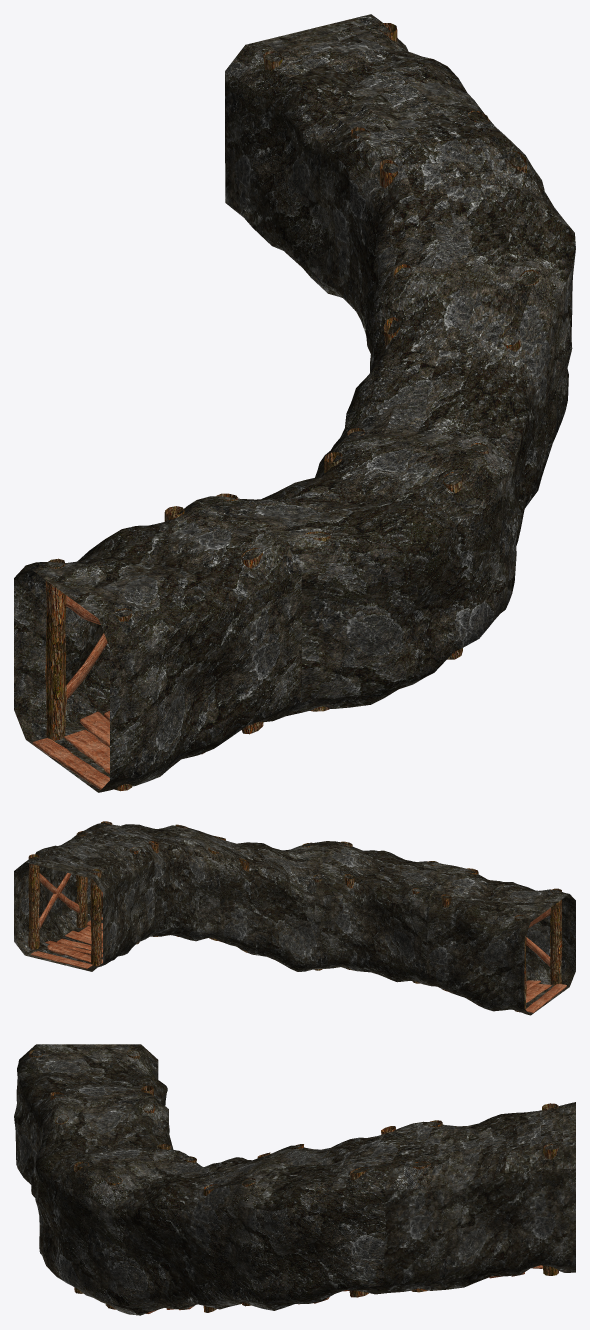
The model's file is Cave_089.fbx.
3 renders of one model, top to bottom at view 1: azimuth 30°, elevation 25°; view 2: azimuth 150°, elevation 25°; view 3: azimuth 270°, elevation 25°, orthographic. The views are drawn at different scales.
Visible parts, largest first — view 1: Cave.089; view 2: Cave.089; view 3: Cave.089.
Boxes of the visible parts, x1,y1,x2,y2 form: Cave.089: (14,14,575,792); Cave.089: (14,821,575,1015); Cave.089: (14,1044,575,1315).
Size of the model in its own units: 1217 by 608 by 1211.
